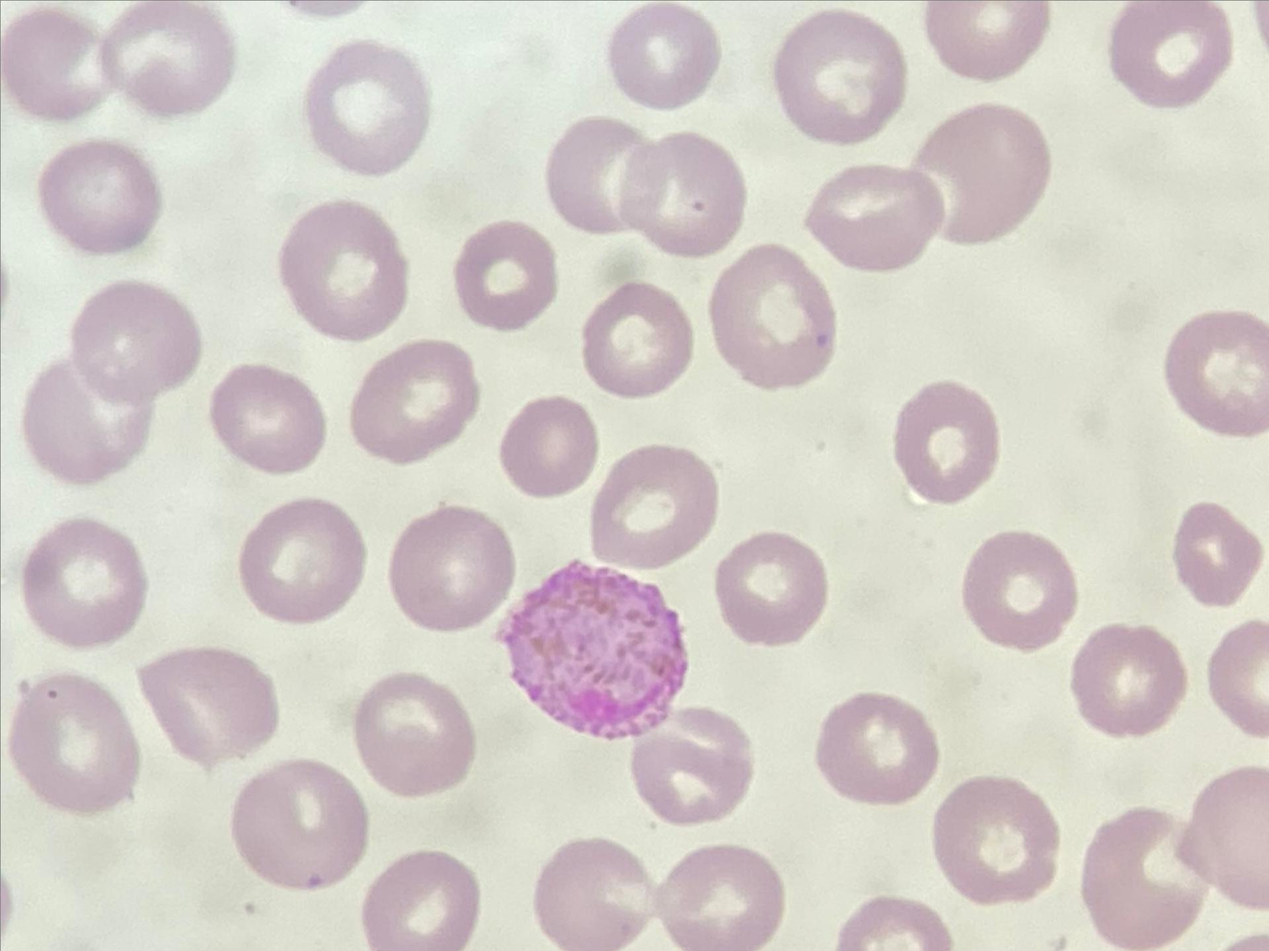Infected: (499, 560, 688, 735)
Uninfected: (910, 103, 1050, 247), (276, 197, 405, 346), (709, 245, 839, 391), (1077, 815, 1211, 951), (775, 10, 906, 148), (233, 759, 367, 889), (21, 356, 154, 485), (137, 648, 278, 768), (590, 441, 720, 571), (13, 679, 138, 814), (349, 341, 482, 467), (71, 283, 202, 410), (241, 498, 368, 628), (934, 775, 1059, 907), (388, 506, 516, 631), (23, 519, 146, 649), (806, 161, 944, 276), (620, 131, 744, 258), (354, 673, 477, 796), (106, 0, 232, 120), (626, 706, 753, 825), (813, 691, 938, 808), (534, 835, 659, 951), (312, 50, 428, 173), (658, 841, 787, 951), (544, 113, 656, 239), (963, 534, 1080, 652), (40, 139, 159, 255), (1066, 625, 1189, 736), (1165, 309, 1269, 440), (892, 380, 1001, 504), (1112, 0, 1232, 112), (580, 285, 695, 401), (714, 532, 829, 647), (208, 364, 329, 473), (1178, 767, 1269, 911), (605, 0, 720, 111), (449, 218, 560, 331), (0, 10, 107, 120), (362, 851, 479, 951), (502, 395, 599, 498), (1175, 498, 1263, 611), (921, 0, 1046, 79)
